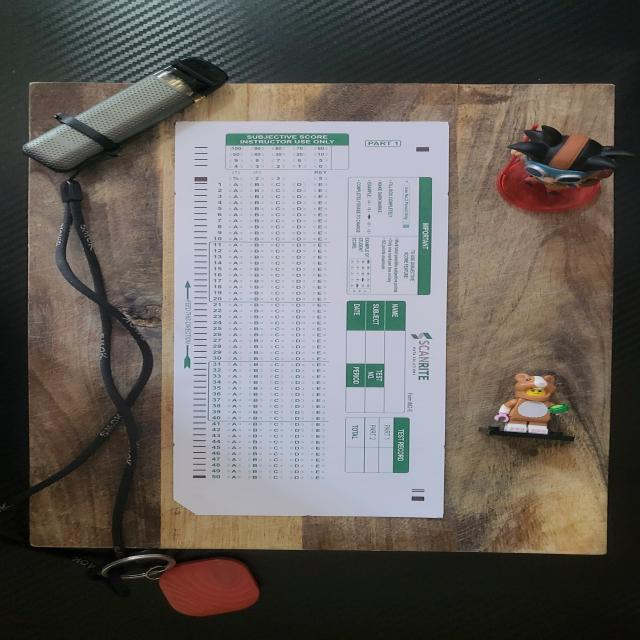scantron: (173, 121, 450, 518)
